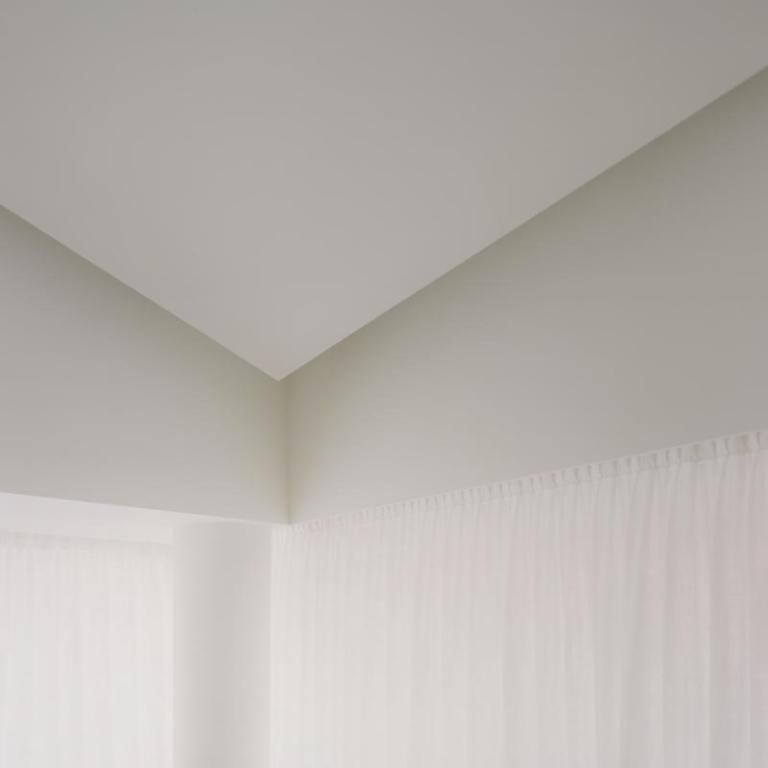white-walls: (44, 34, 722, 448)
